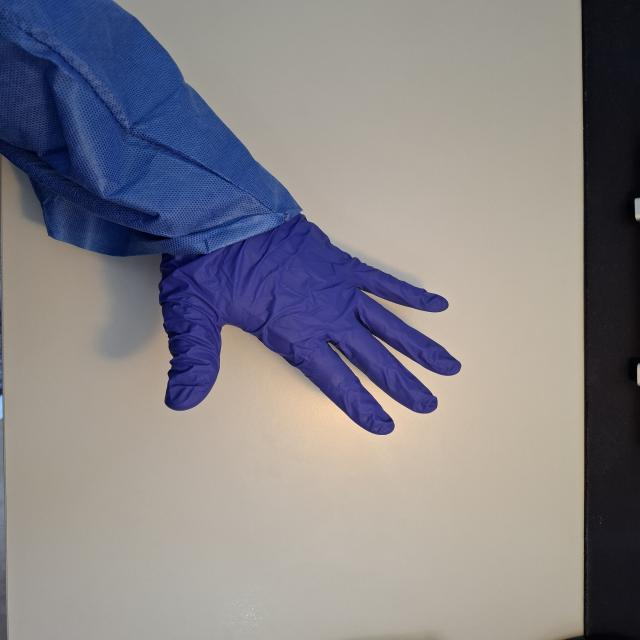glove_on: (154, 208, 465, 438)
